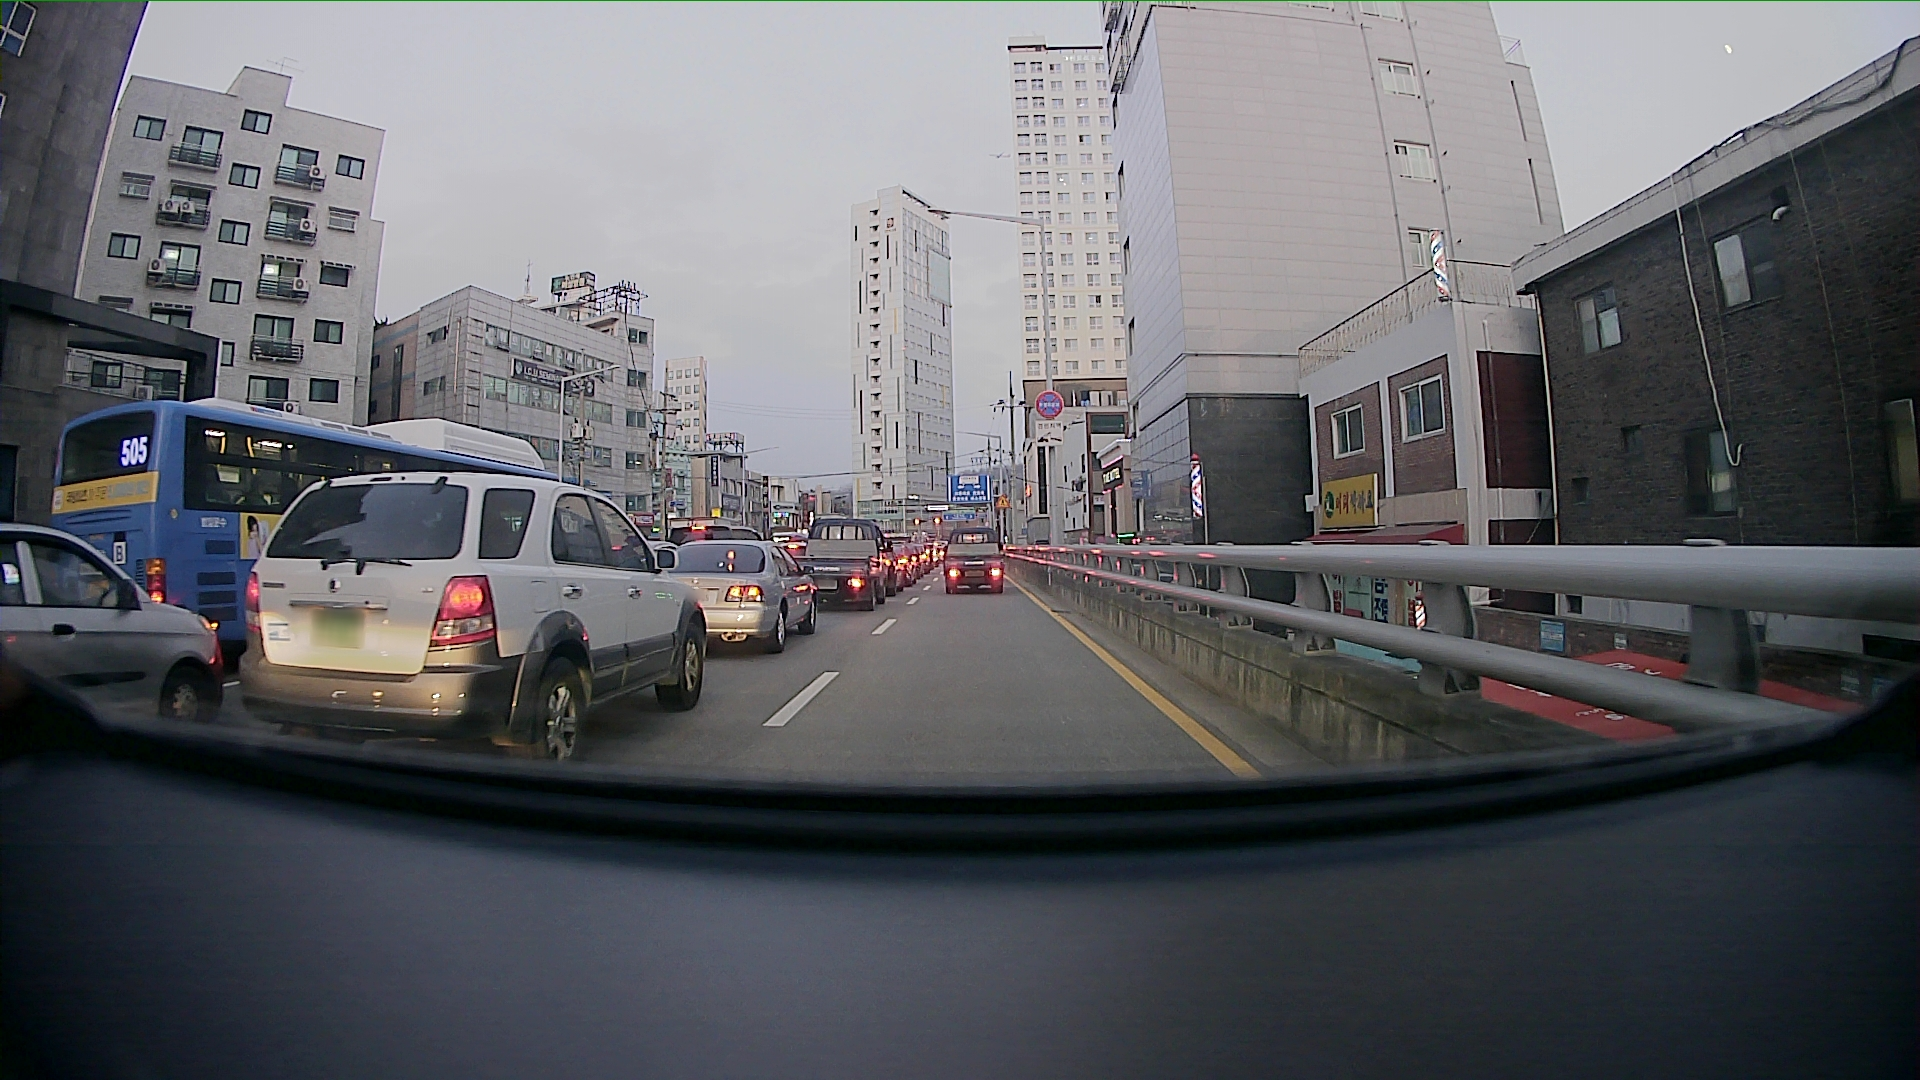trafficLight: (910, 514, 948, 525)
trafficSignCircle: (1033, 388, 1062, 419)
trafficSignTri: (996, 495, 1013, 510)
